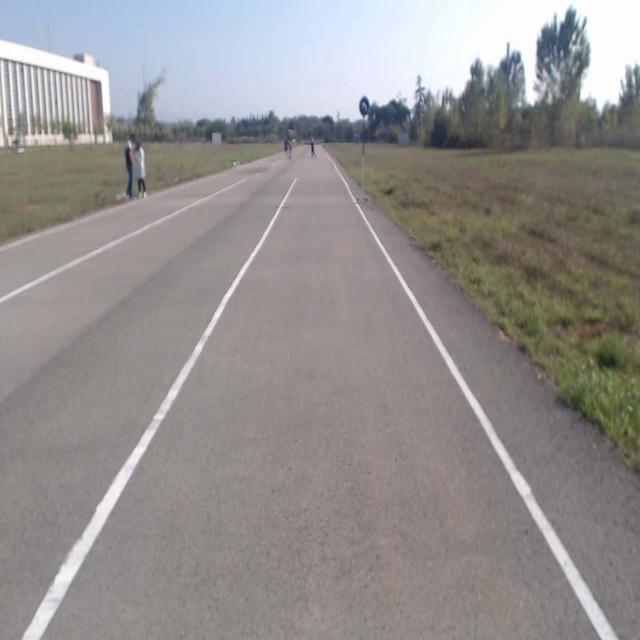sol: (359, 96, 369, 116)
